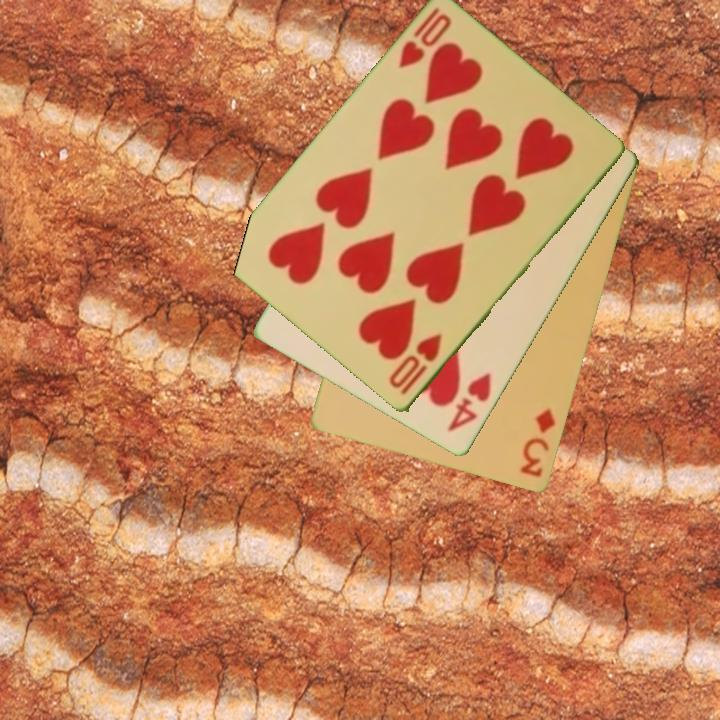10h: (385, 330, 446, 399), (395, 4, 455, 73)
3d: (517, 405, 559, 481)
4h: (444, 369, 495, 436)
